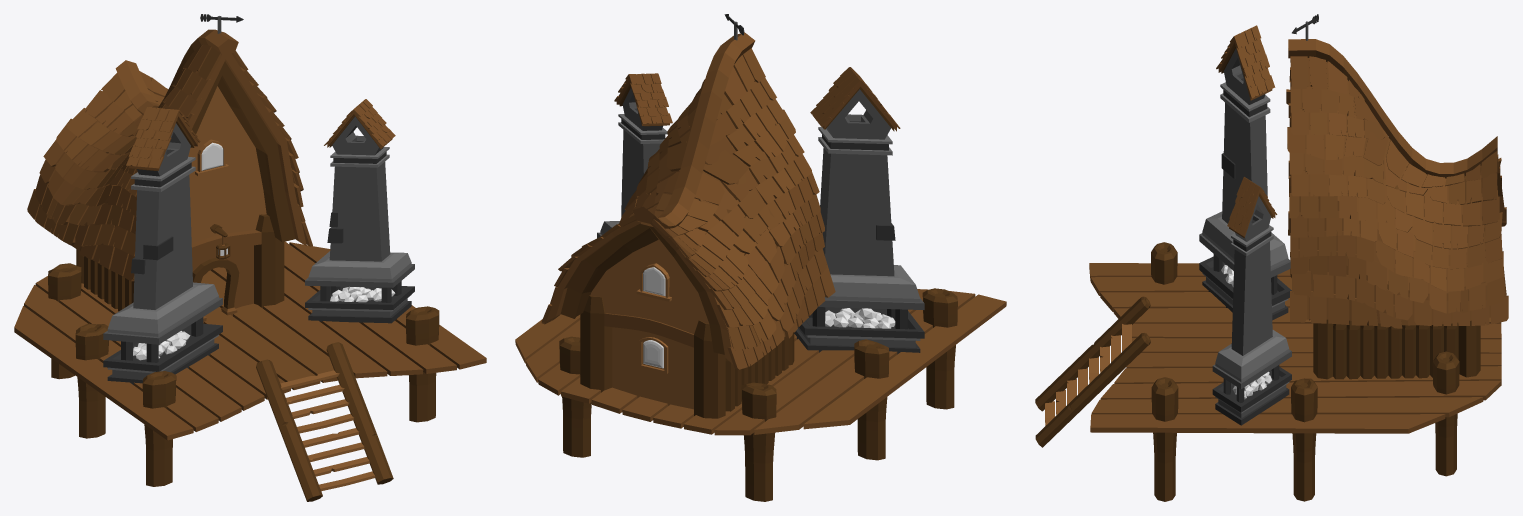
The model's file is A_Blacksmith.fbx.
3 renders of one model, left to right at view 1: azimuth 30°, elevation 25°; view 2: azimuth 150°, elevation 25°; view 3: azimuth 270°, elevation 25°, orthographic. The views are drawn at different scales.
Visible parts, largest first — view 1: A_Blacksmith; view 2: A_Blacksmith; view 3: A_Blacksmith.
Part boxes in pixels (left/top/right/bottom): A_Blacksmith: left=14, top=14, right=486, bottom=501; A_Blacksmith: left=515, top=14, right=1006, bottom=501; A_Blacksmith: left=1035, top=14, right=1508, bottom=501.
Bounding box in the file's own units: 922 × 1060 × 1120.
